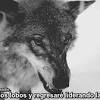Lobo: (9, 3, 86, 90)
